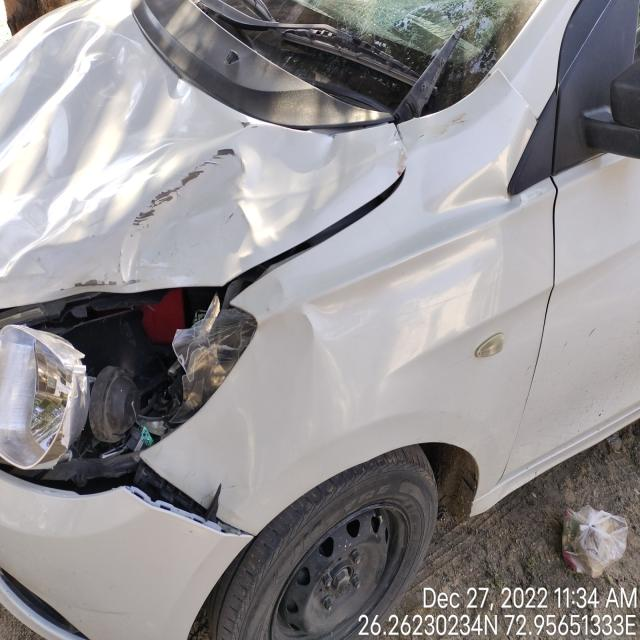damage: (0, 170, 405, 537), (0, 116, 407, 309), (300, 145, 521, 441)
